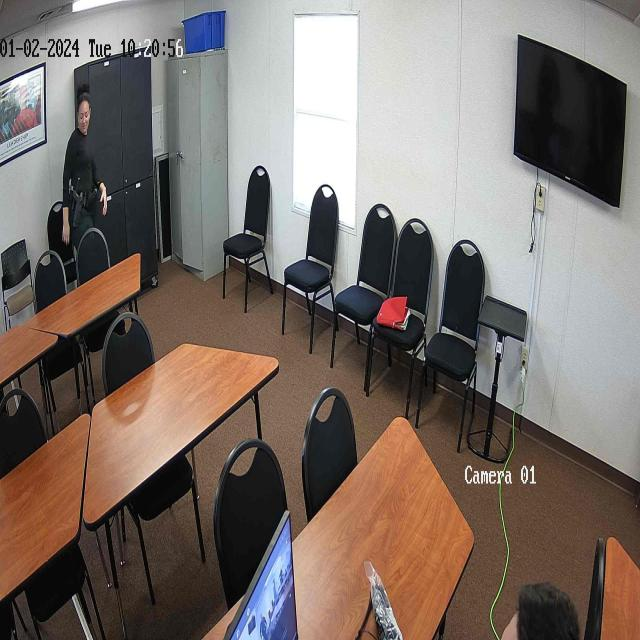weapon: (72, 192, 82, 226)
